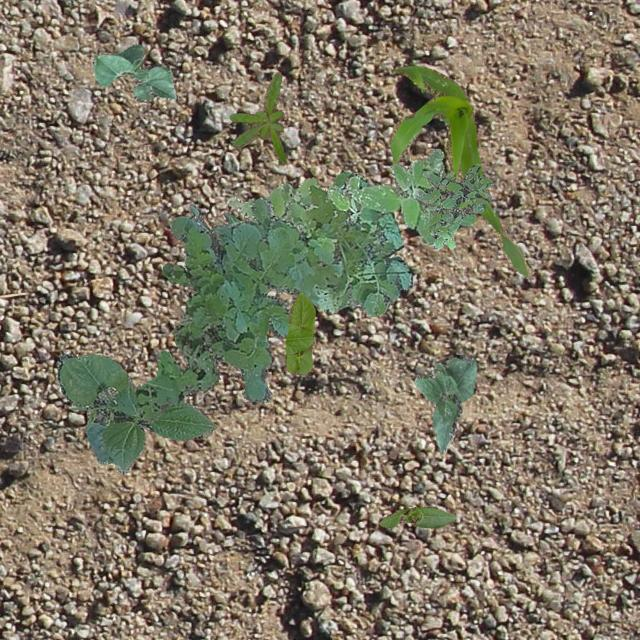crop: (388, 64, 530, 276), (56, 352, 216, 473), (414, 354, 476, 452), (92, 42, 175, 100), (284, 292, 314, 374), (378, 506, 456, 528), (188, 203, 240, 230)
weed: (134, 170, 412, 422), (325, 148, 445, 242), (414, 162, 492, 250), (228, 70, 284, 164), (226, 176, 316, 222)
